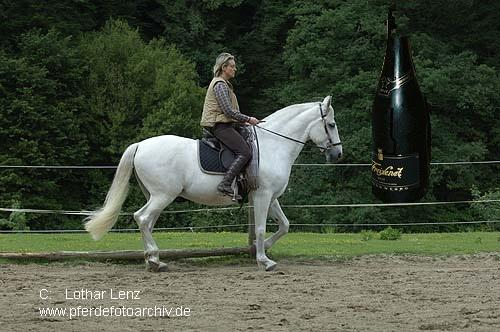tampered: (373, 6, 431, 203)
